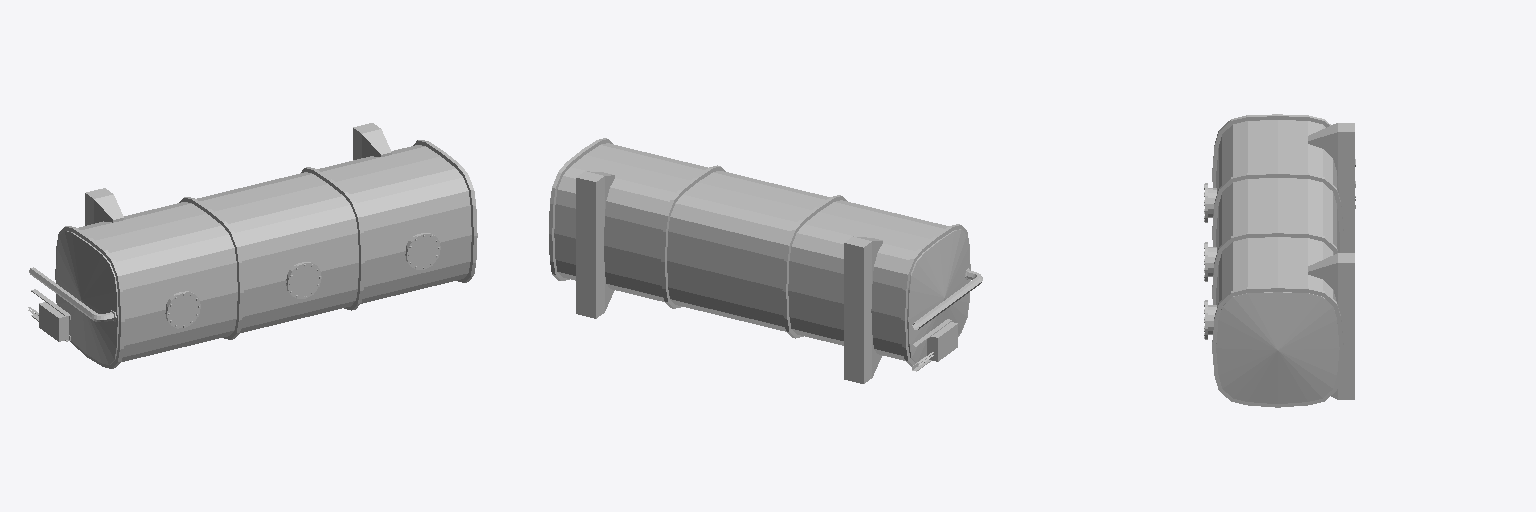
Rendered from BenzinTank.obj.
3 views of the same model, side by side, from view 1: azimuth 30°, elevation 25°; view 2: azimuth 150°, elevation 25°; view 3: azimuth 270°, elevation 25° (orthographic).
Parts seen in each view (by area): view 1: BenzinTank; view 2: BenzinTank; view 3: BenzinTank.
Part boxes in pixels (x1,y1,x2,y2): BenzinTank: (28, 123, 477, 368); BenzinTank: (549, 138, 982, 383); BenzinTank: (1204, 114, 1355, 407).
Bounding box in the file's own units: 1081 × 364 × 369.